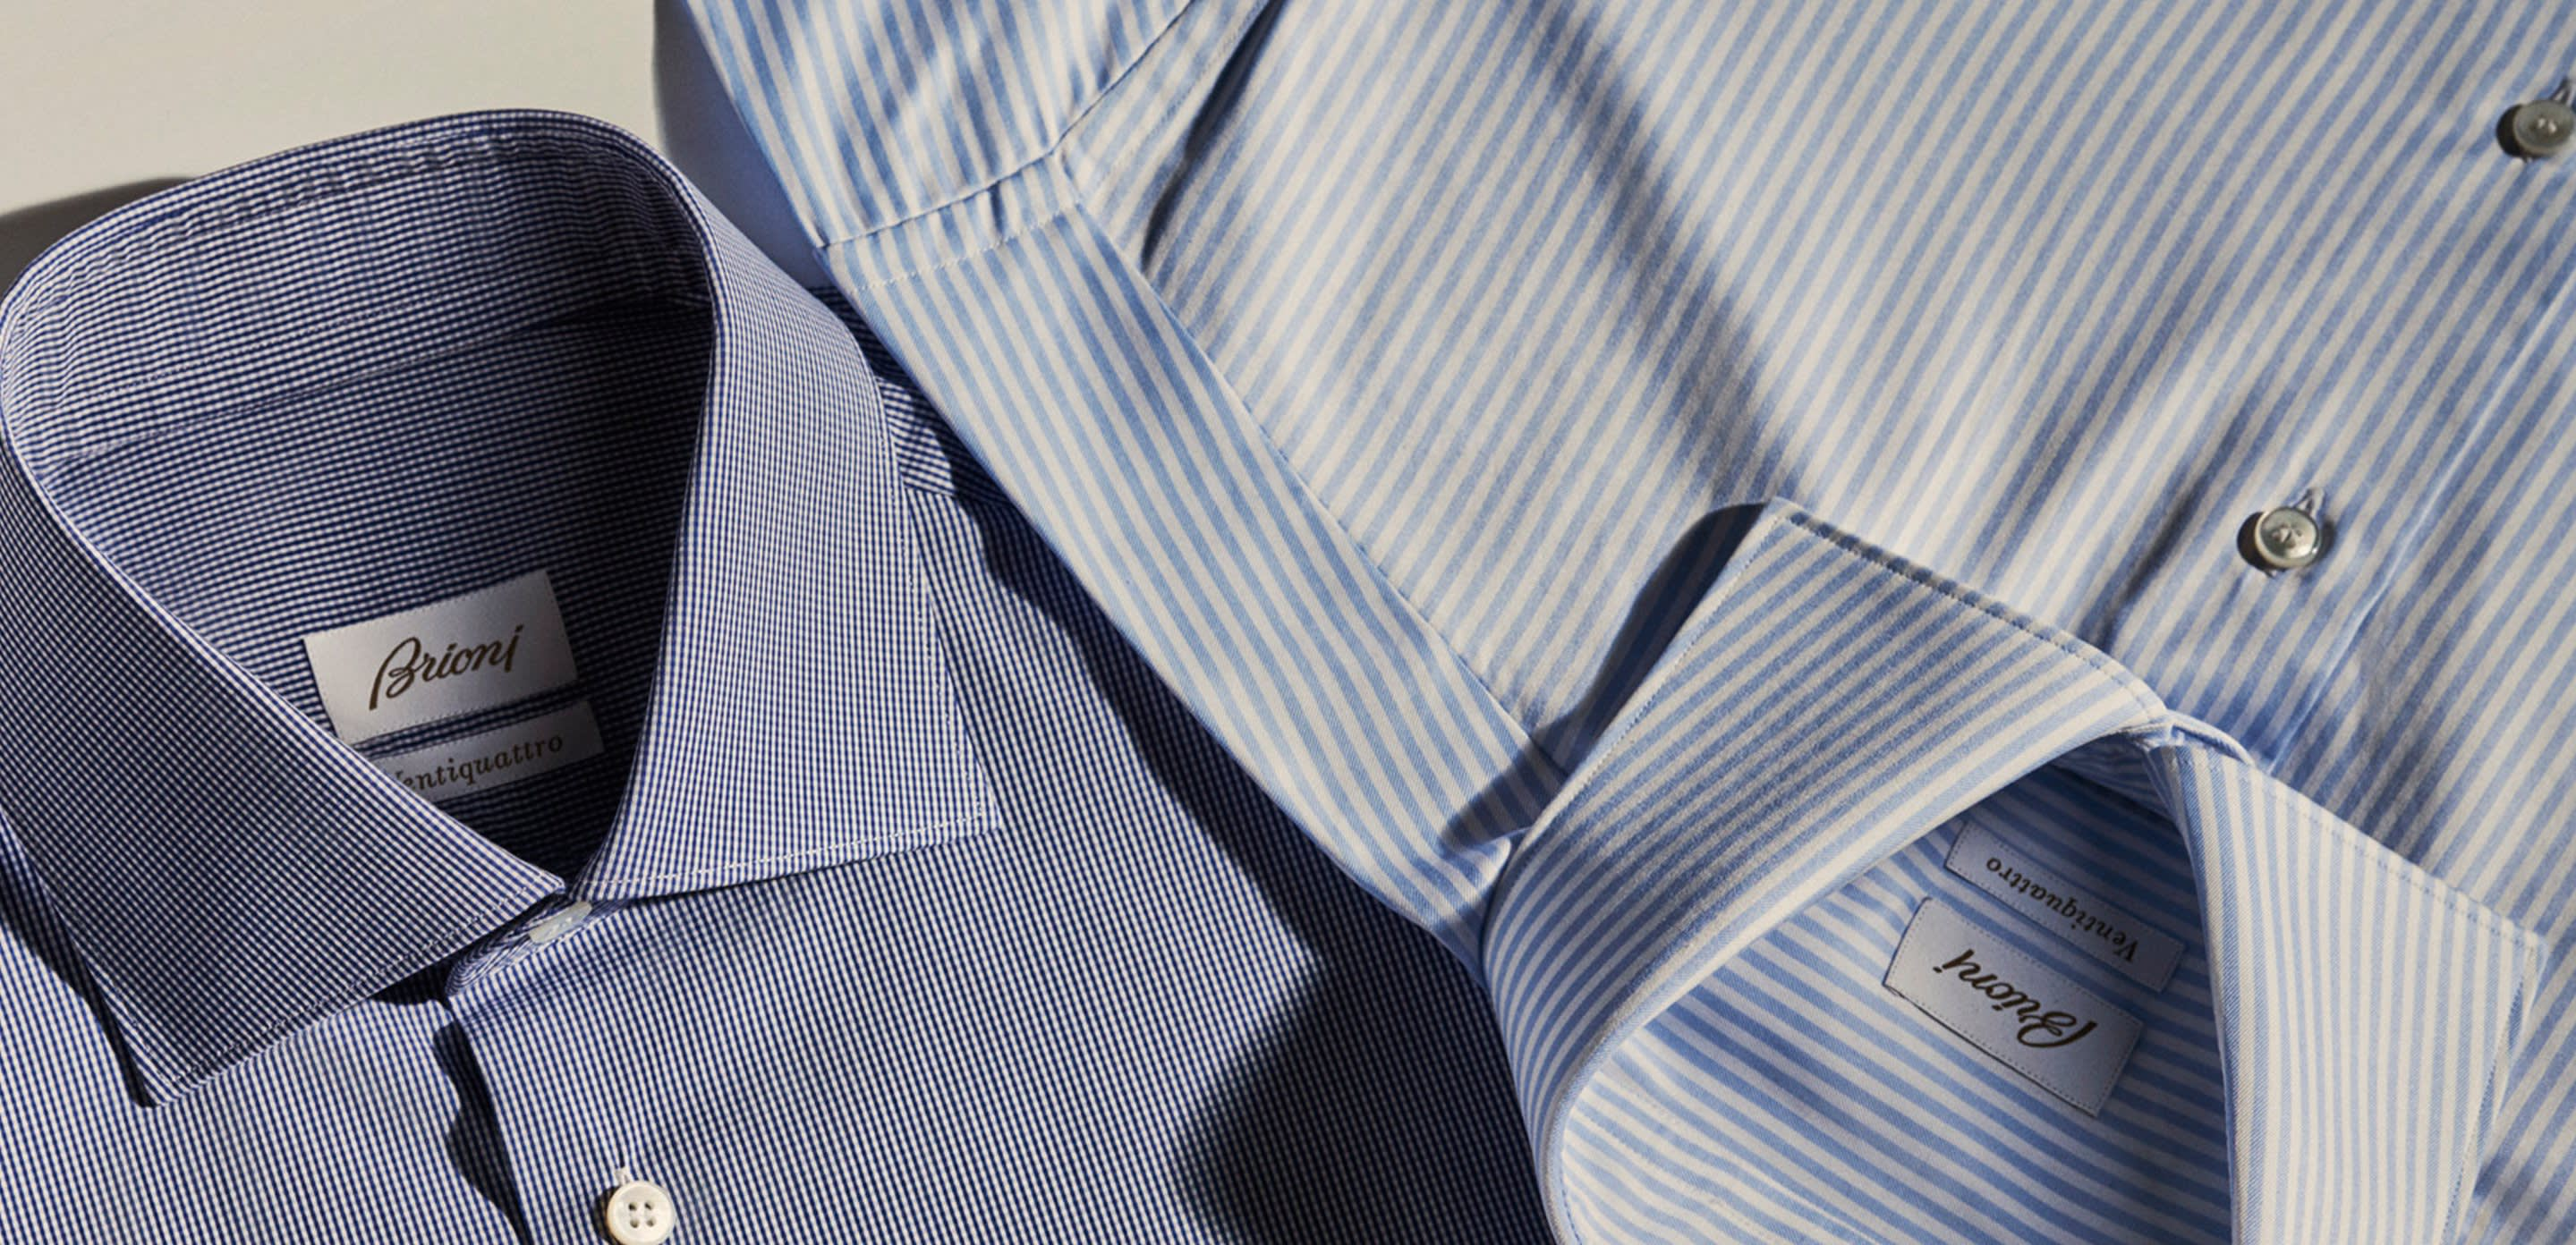long-sleeved official shirt: (217, 44, 2563, 1235)
